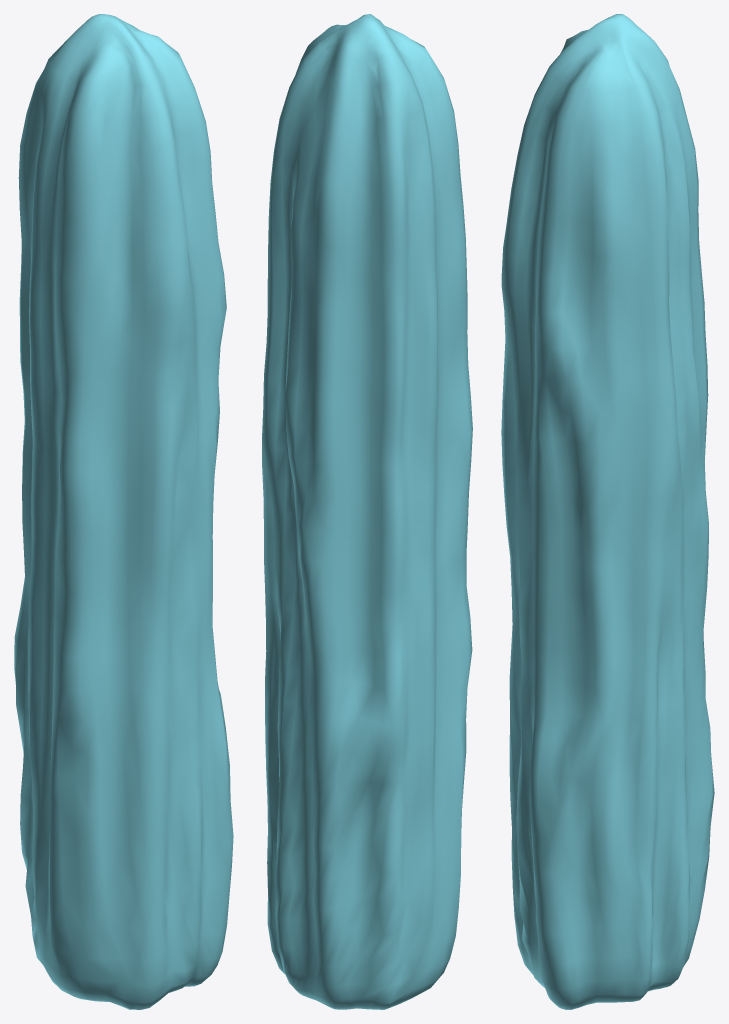
Rendered from cactus01.fbx.
The picture shows the model from 3 angles, left to right: view 1: azimuth 30°, elevation 25°; view 2: azimuth 150°, elevation 25°; view 3: azimuth 270°, elevation 25°; orthographic projection.
Visible parts, largest first — view 1: PM3D_Cylinder3D_1; view 2: PM3D_Cylinder3D_1; view 3: PM3D_Cylinder3D_1.
Part boxes in pixels (box(x1,y1,x2,y2)): PM3D_Cylinder3D_1: box(14, 14, 233, 1009); PM3D_Cylinder3D_1: box(262, 14, 472, 1009); PM3D_Cylinder3D_1: box(501, 14, 714, 1009).
Bounding box in the file's own units: 2.38 × 12.6 × 2.53.
